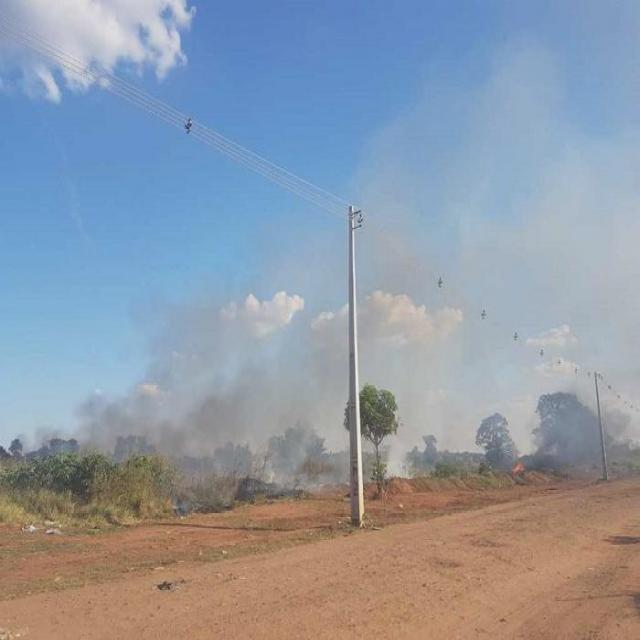Fire: (512, 462, 526, 476)
